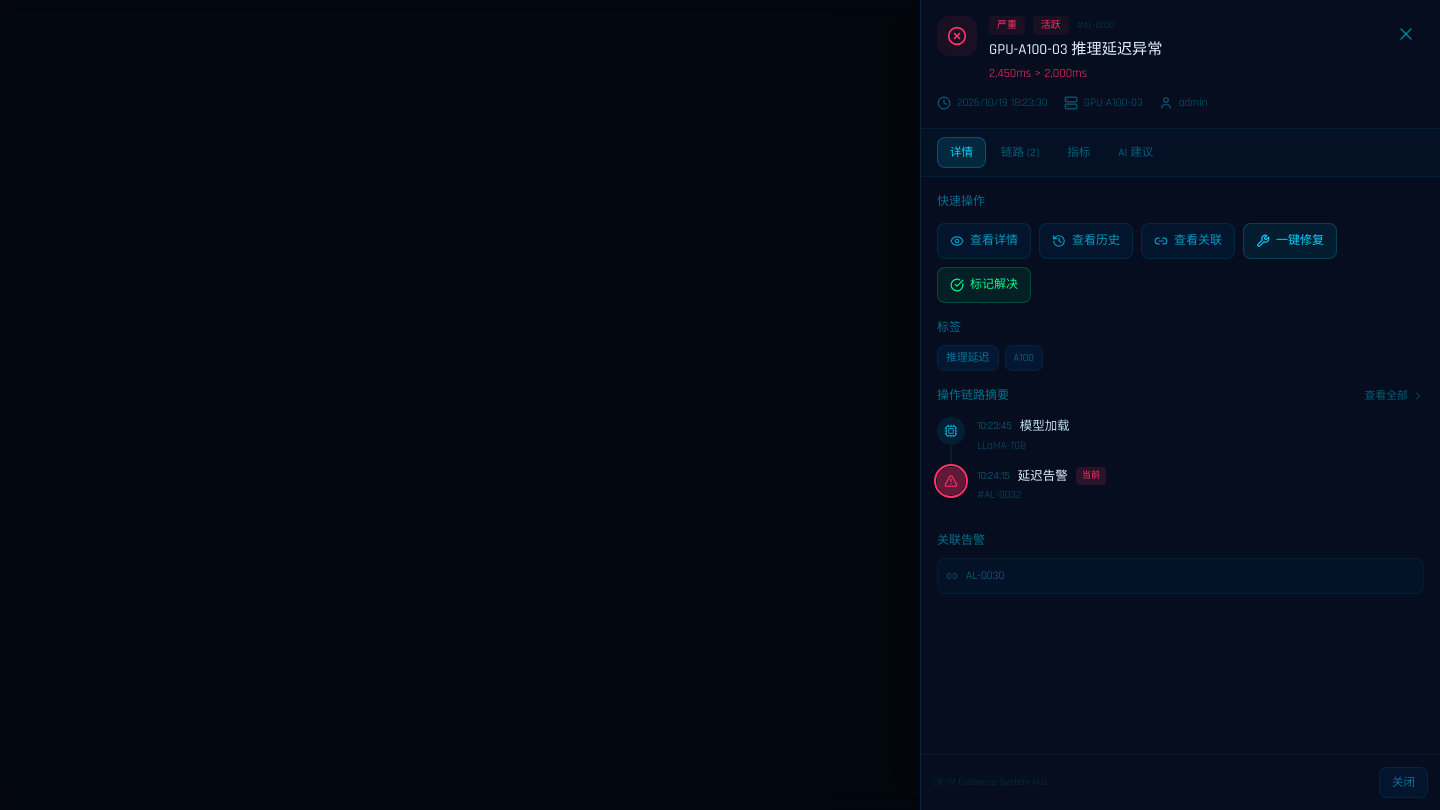
Test: FollowUpDrawer › Tab 栏 › 切换到链路 tab 应显示完整操作链路
Click the button "链路 (2)" at [1020, 152], box [988, 137, 1052, 168]
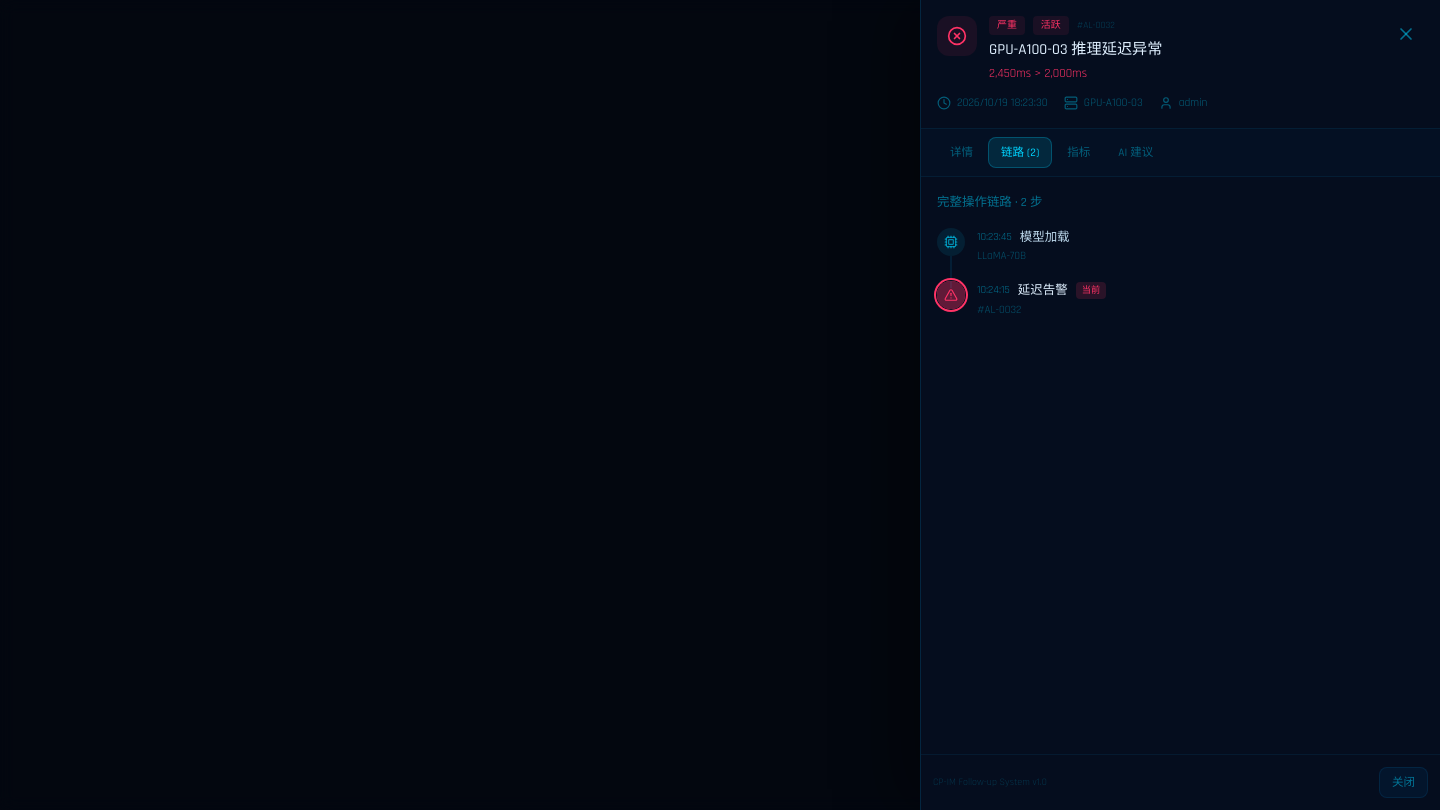
Expected: the heading "完整操作链路 · 2 步" is shown, [937, 194, 1042, 210]
